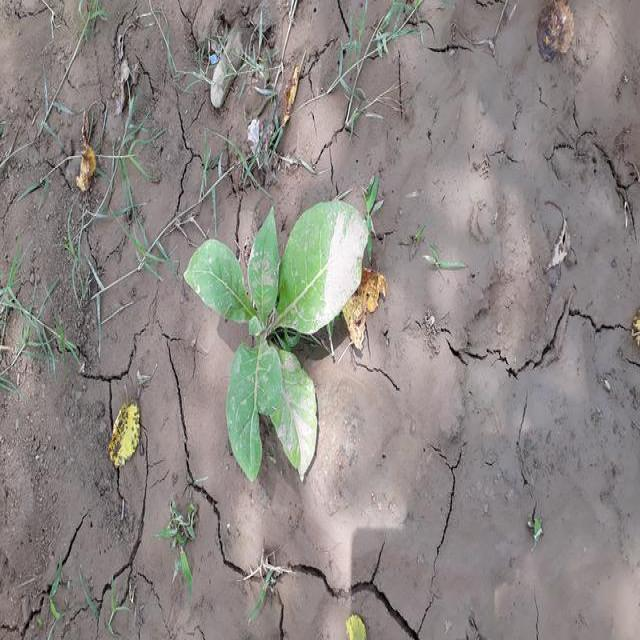crop: (180, 195, 370, 486)
